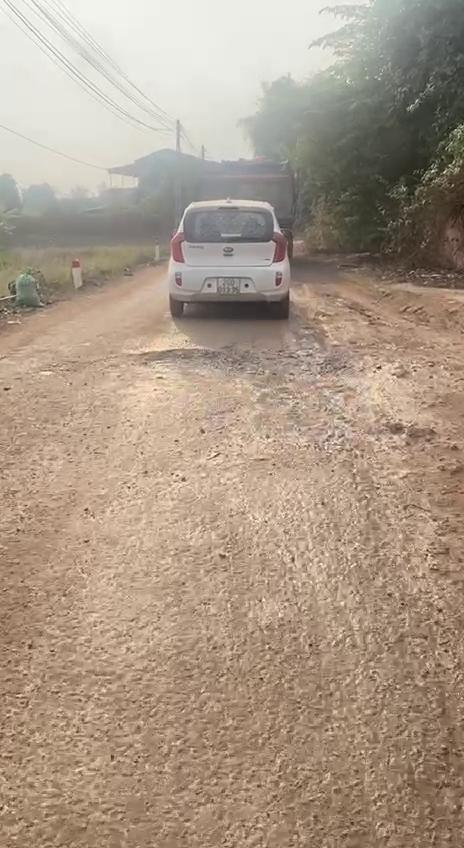pothole: (117, 344, 250, 380)
